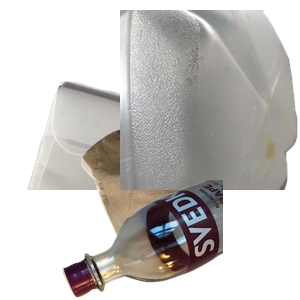glass: (60, 180, 300, 300)
paper: (25, 79, 265, 259)
plastic: (120, 10, 300, 190)
trash: (79, 123, 281, 300)
